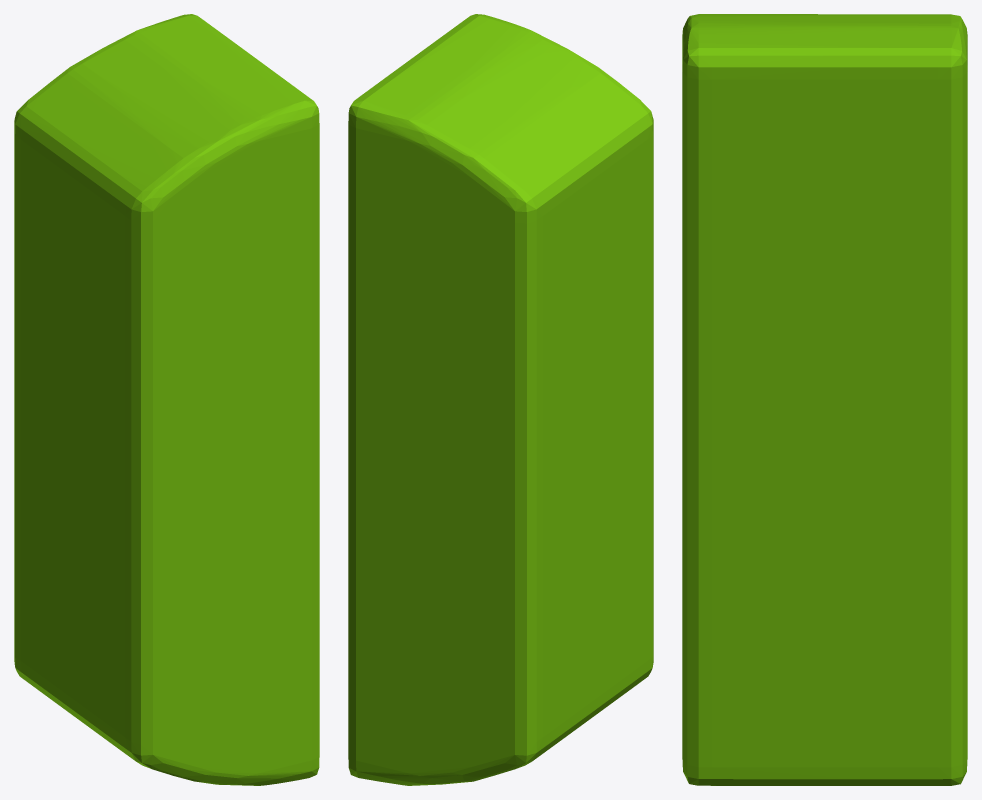
File: right_forearm_collision_part_4.obj
3 views of the same model, side by side, from view 1: azimuth 30°, elevation 25°; view 2: azimuth 150°, elevation 25°; view 3: azimuth 270°, elevation 25° (orthographic). The views are drawn at different scales.
Size of the model in its own units: 39.86 by 137 by 48.17.
